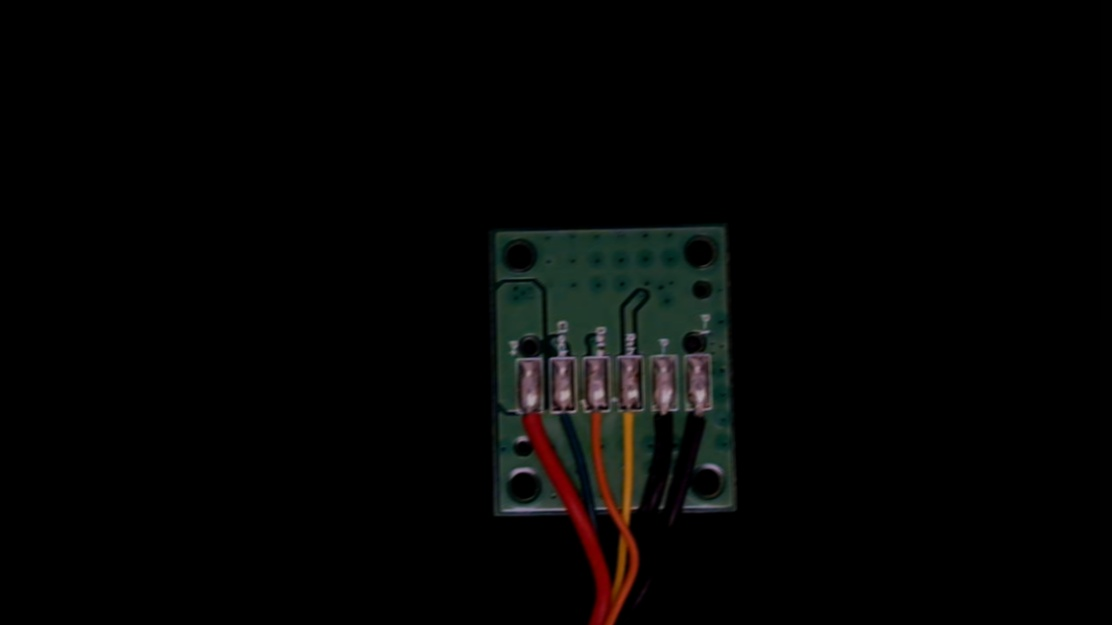Black: (649, 391, 679, 456)
Black1: (688, 392, 717, 451)
Green: (548, 397, 579, 442)
Orange: (582, 395, 610, 458)
Red: (515, 393, 545, 455)
Yellow: (614, 394, 645, 459)
